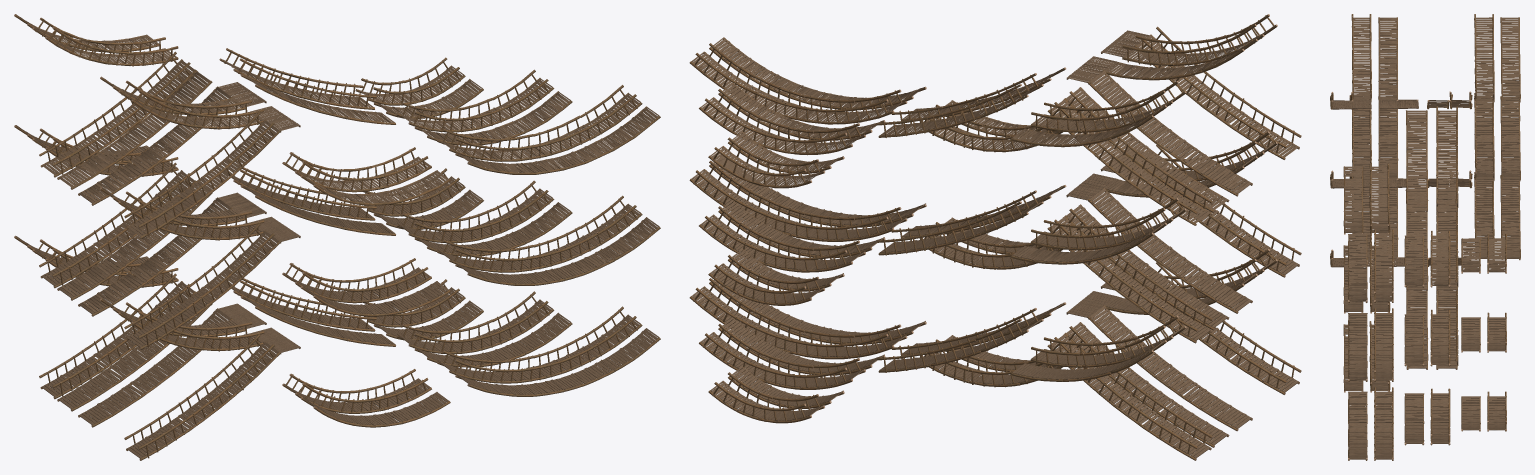
File: Bridges_A1.fbx
3 views of the same model, side by side, from view 1: azimuth 30°, elevation 25°; view 2: azimuth 150°, elevation 25°; view 3: azimuth 270°, elevation 25° (orthographic). The views are drawn at different scales.
Parts seen in each view (by area): view 1: Bridge_B2_Height_4.002, Bridge_B2_Height_4.001, Bridge_B2_Height_4, Bridge_B1_Height_4.002, Bridge_A5_Height_1, Bridge_A5_Height_1.001, Bridge_B1_Height_4.001, Bridge_B1_Height_4, Bridge_A5_Height_1.002, Bridge_A3_Height_3.002, Bridge_A3_Height_3.001, Bridge_A3_Height_3 (+34 smaller); view 2: Bridge_B2_Height_4.002, Bridge_B1_Height_4.002, Bridge_B1_Height_4.001, Bridge_B1_Height_4, Bridge_A5_Height_1.002, Bridge_A5_Height_1.001, Bridge_A5_Height_1, Bridge_B2_Height_4.001, Bridge_B2_Height_4, Bridge_A3_Height_3.002, Bridge_A3_Height_3, Bridge_A3_Height_3.001 (+36 smaller); view 3: Bridge_A1_Height_3.002, Bridge_A2_Height_3.002, Bridge_B2_Height_4.002, Bridge_B1_Height_4.002, Bridge_A1_Height_4.002, Bridge_A2_Height_4.002, Bridge_A1_Height_4.001, Bridge_B2_Height_4.001, Bridge_A2_Height_4.001, Bridge_B1_Height_4.001, Bridge_A2_Height_4, Bridge_A1_Height_4 (+31 smaller).
Part boxes in pixels (<box>): Bridge_B2_Height_4.002: <box>118,80,300,239</box>; Bridge_B2_Height_4.001: <box>118,191,300,349</box>; Bridge_B2_Height_4: <box>118,302,300,460</box>; Bridge_B1_Height_4.002: <box>78,76,266,205</box>; Bridge_A5_Height_1: <box>437,306,642,383</box>; Bridge_A5_Height_1.001: <box>437,195,642,272</box>; Bridge_B1_Height_4.001: <box>78,187,266,316</box>; Bridge_B1_Height_4: <box>78,298,266,427</box>; Bridge_A5_Height_1.002: <box>437,85,642,161</box>; Bridge_A3_Height_3.002: <box>39,51,196,177</box>; Bridge_A3_Height_3.001: <box>39,162,195,288</box>; Bridge_A3_Height_3: <box>39,273,195,399</box>; Bridge_B2_Height_4.002: <box>1101,14,1301,159</box>; Bridge_B1_Height_4.002: <box>1066,39,1257,196</box>; Bridge_B1_Height_4.001: <box>1066,156,1257,313</box>; Bridge_B1_Height_4: <box>1066,273,1257,431</box>; Bridge_A5_Height_1.002: <box>689,43,907,124</box>; Bridge_A5_Height_1.001: <box>689,160,907,241</box>; Bridge_A5_Height_1: <box>689,278,907,359</box>; Bridge_B2_Height_4.001: <box>1100,131,1301,277</box>; Bridge_B2_Height_4: <box>1101,249,1301,394</box>; Bridge_A3_Height_3.002: <box>1047,91,1212,225</box>; Bridge_A3_Height_3: <box>1047,326,1213,460</box>; Bridge_A3_Height_3.001: <box>1047,208,1213,343</box>; Bridge_A1_Height_3.002: <box>1436,106,1458,212</box>; Bridge_A2_Height_3.002: <box>1406,110,1428,212</box>; Bridge_B2_Height_4.002: <box>1330,14,1371,109</box>; Bridge_B1_Height_4.002: <box>1378,17,1418,109</box>; Bridge_A1_Height_4.002: <box>1474,14,1494,102</box>; Bridge_A2_Height_4.002: <box>1500,17,1520,102</box>; Bridge_A1_Height_4.001: <box>1474,93,1494,181</box>; Bridge_B2_Height_4.001: <box>1330,97,1371,188</box>; Bridge_A2_Height_4.001: <box>1500,96,1520,181</box>; Bridge_B1_Height_4.001: <box>1378,96,1418,187</box>; Bridge_A2_Height_4: <box>1500,175,1520,260</box>; Bridge_A1_Height_4: <box>1474,172,1494,259</box>.
Size of the model in its own units: 10108 by 7272 by 4385.
